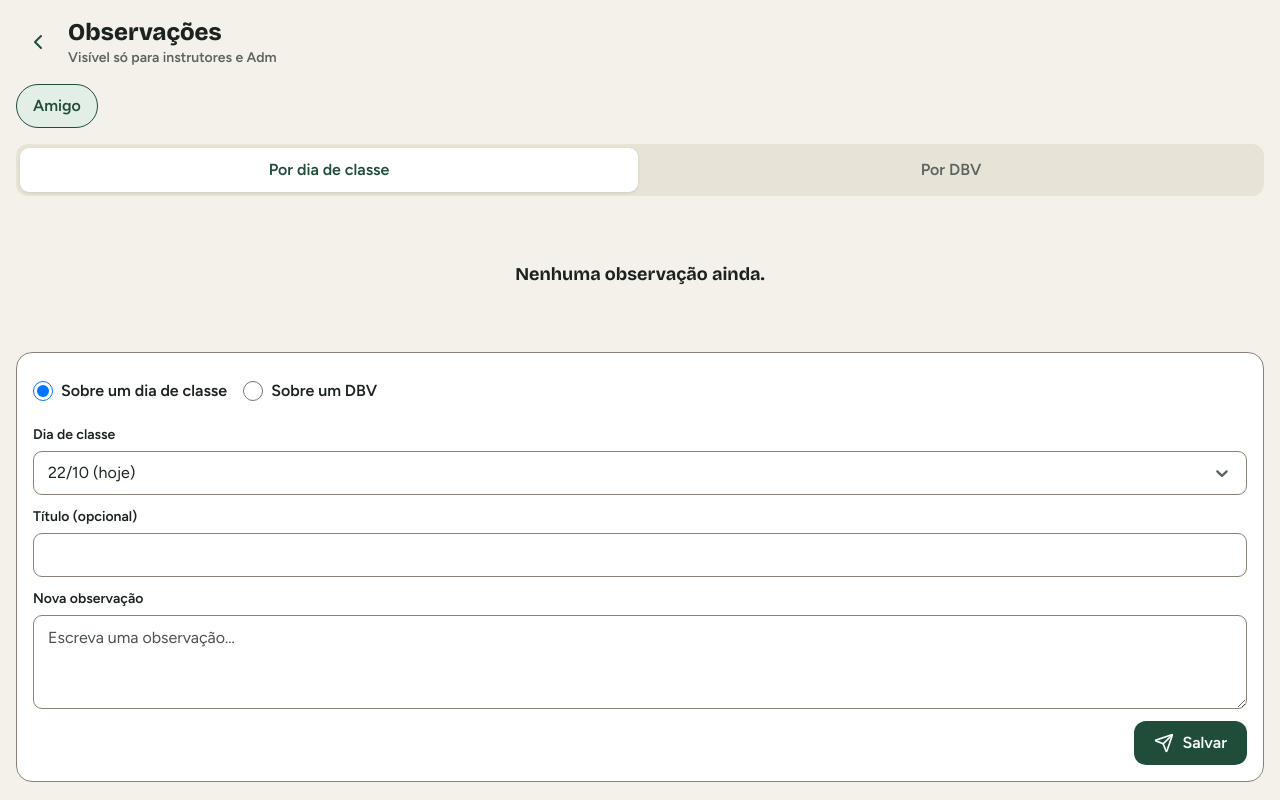
Scenario: Observações › não salva texto vazio
This screenshot has width=1280, height=800.
Expected: the heading "Nenhuma observação ainda." is shown, [515,260,765,288]
Click the button with aria-label "Salvar observação" at (1191, 743), box [1134,721,1247,765]
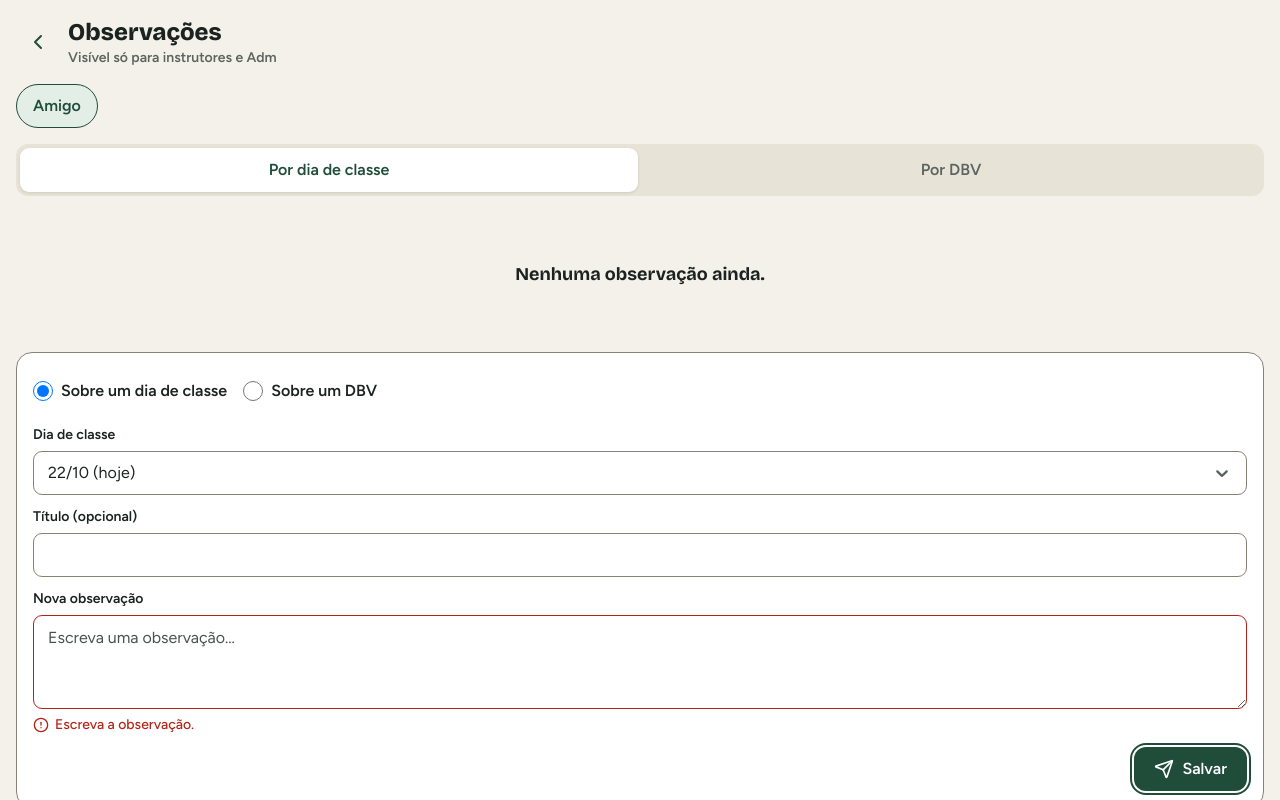
Expected: the text "Escreva a observação." is shown, [33,716,194,733]
